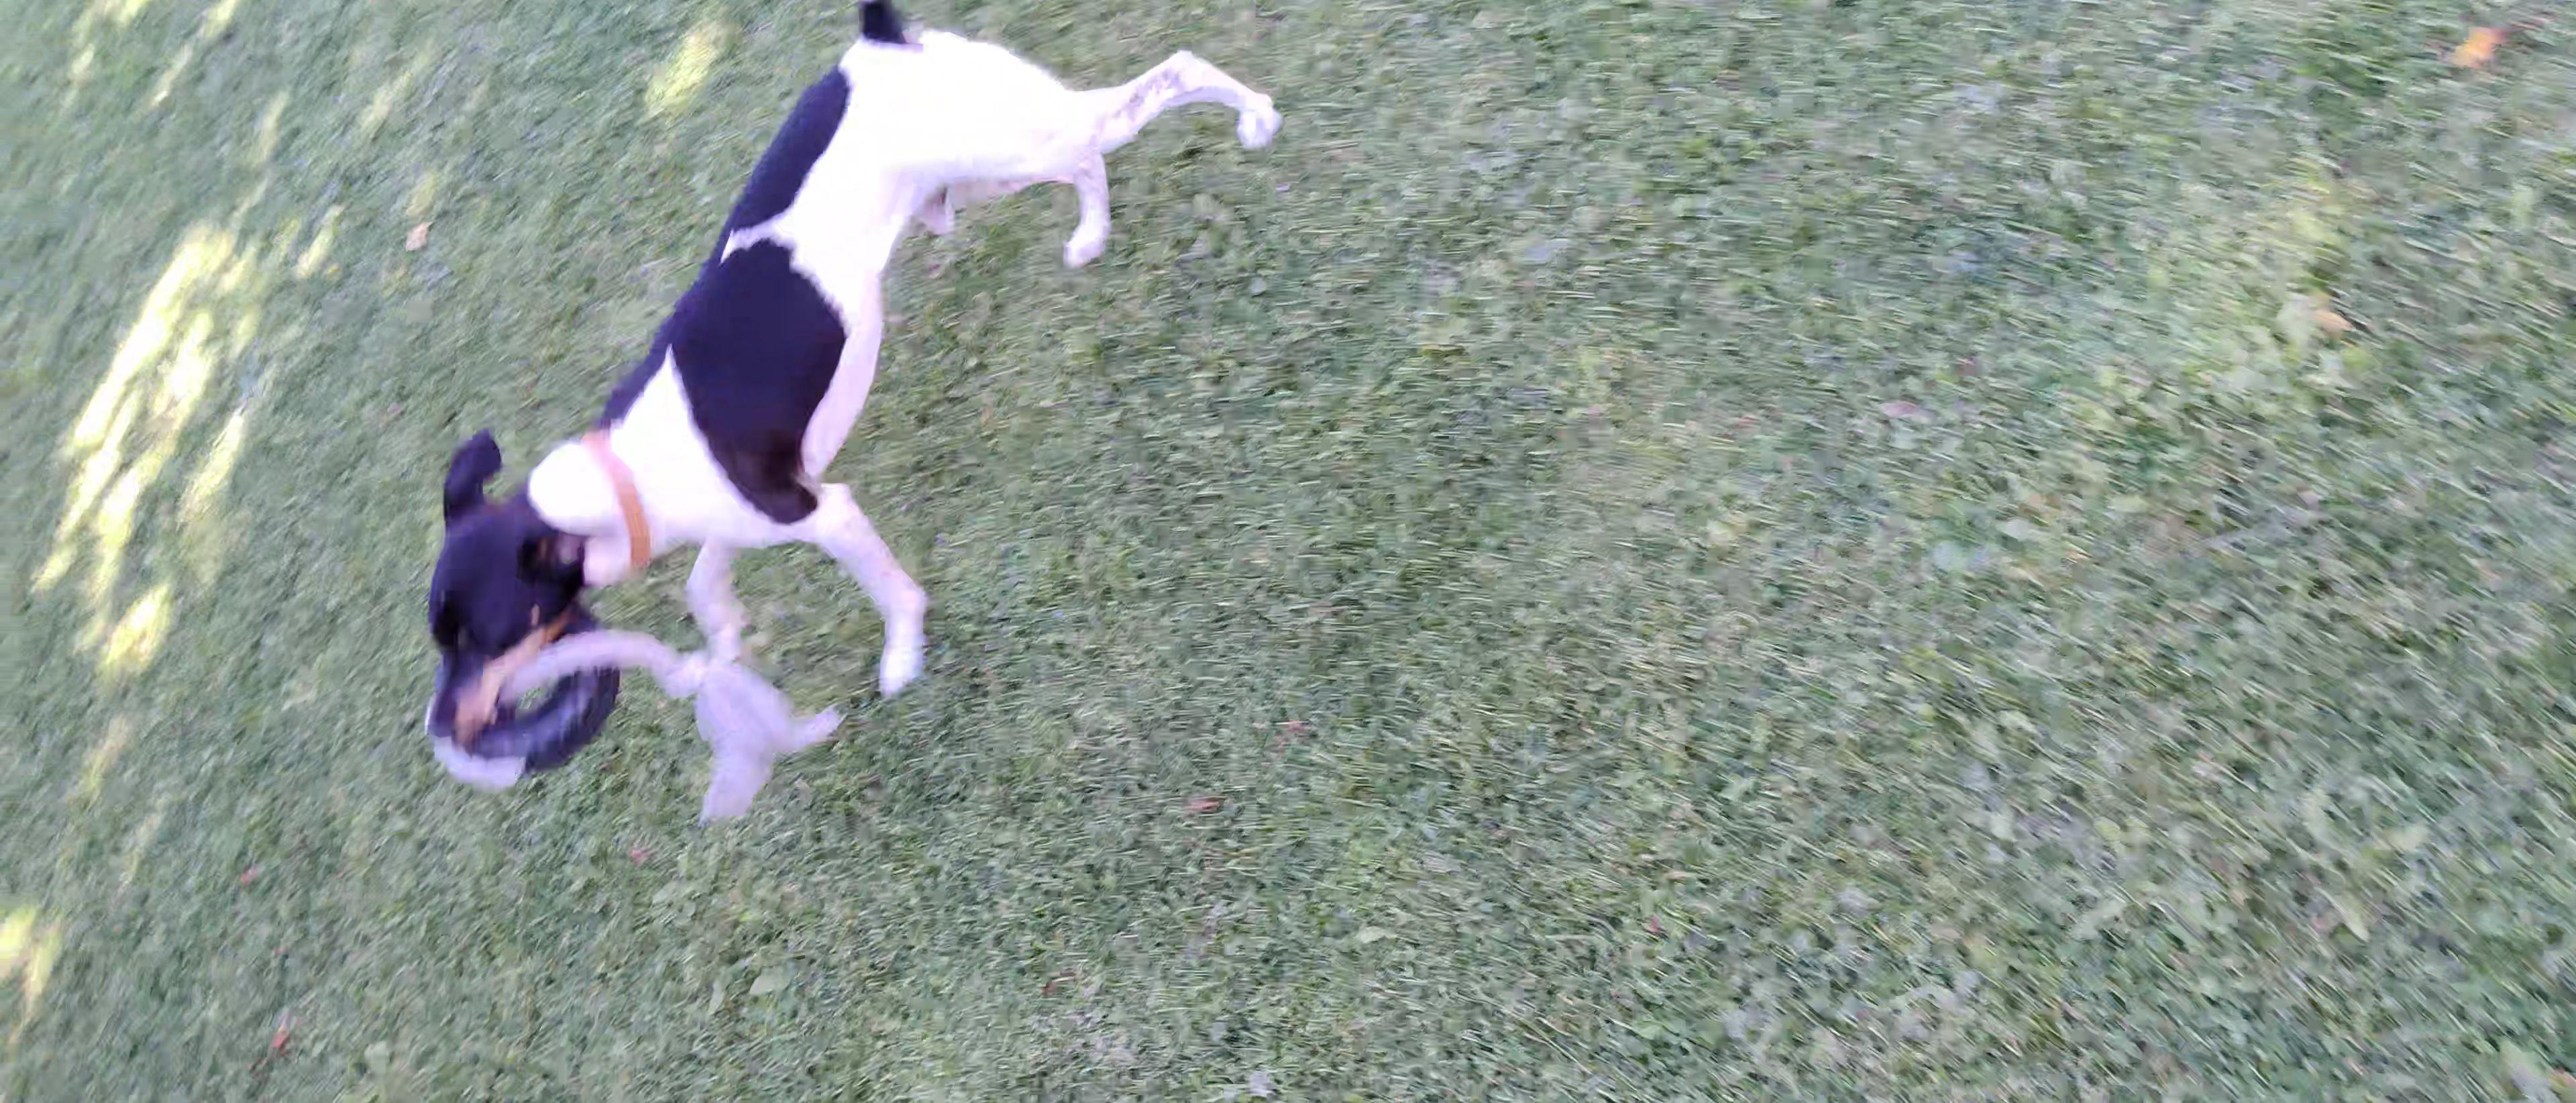Dog: (416, 0, 1296, 763)
